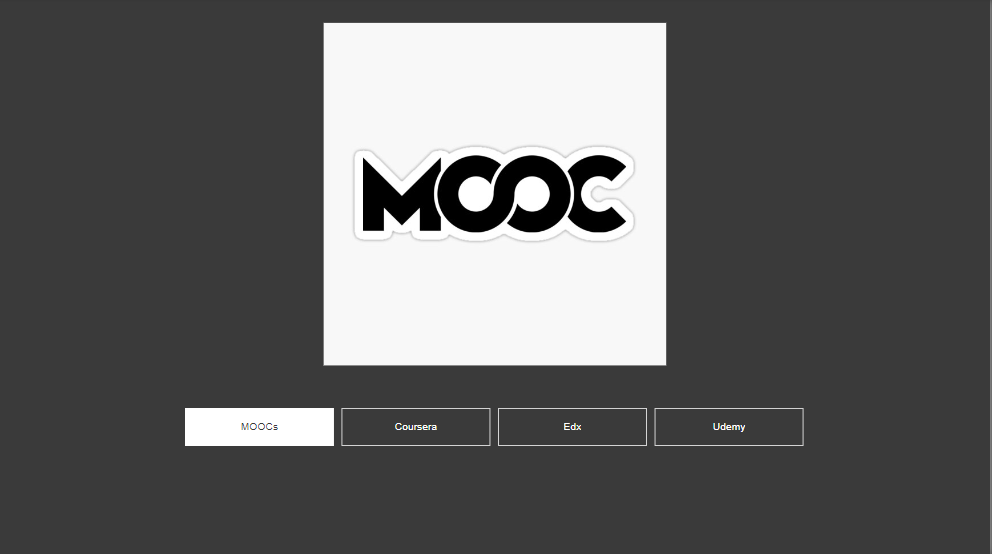

The dashboard page shown, as its layout file describes it:
{"tool":"powerbi","page":{"name":"MOOCs","canvas":[1280,720],"ordinal":0},"visuals":[{"type":"image","box":[413.9,26.9,453.5,452.1],"z":0},{"type":"pageNavigator","box":[240.9,528.7,799.4,49.6],"z":1000}]}

Visuals, with their boxes in screenshot pixels (x1, y1, x2, y2), scaled from the page's 1280x720 canvas onto the 992x554 screenshot:
image: crop(321, 21, 672, 369)
pageNavigator: crop(187, 407, 806, 445)
